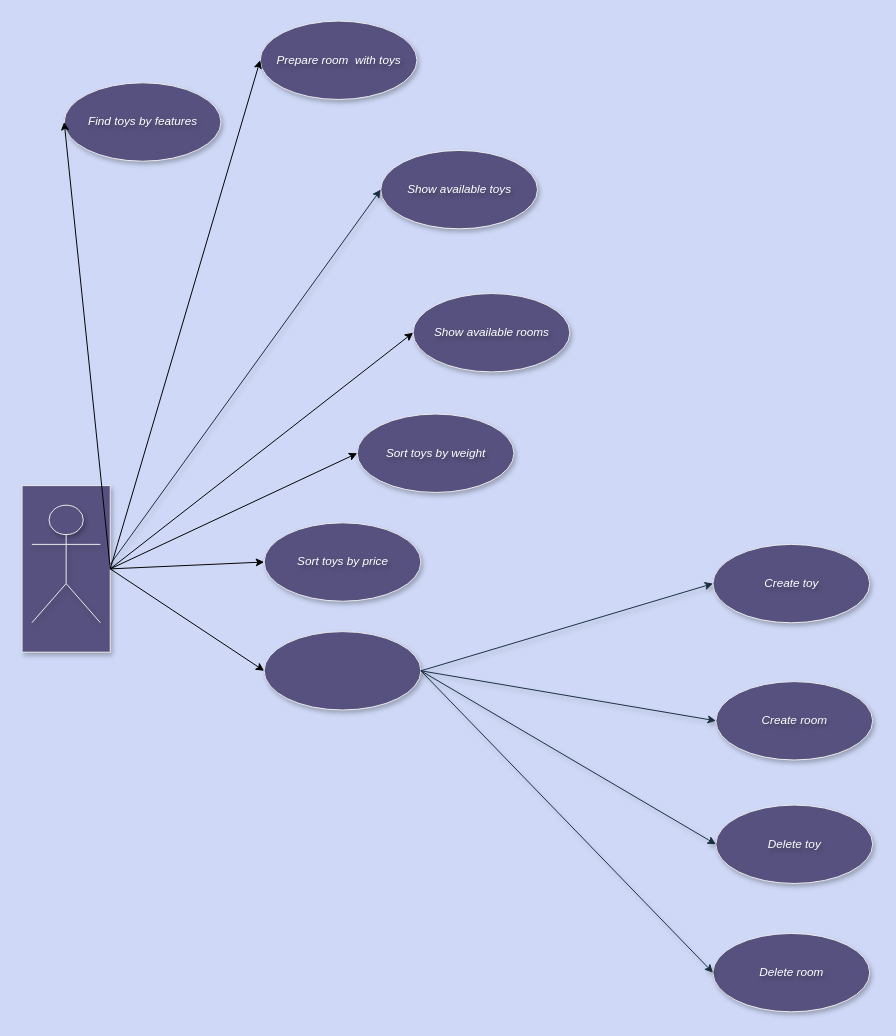
This 896x1036 diagram has some shape labels left out. The shapes that lost their labels are listed below. From the top down, each one's centre as x and y in pixels, then its label:
At [66,565]: "User".
At [343,672]: "More informatioan".
